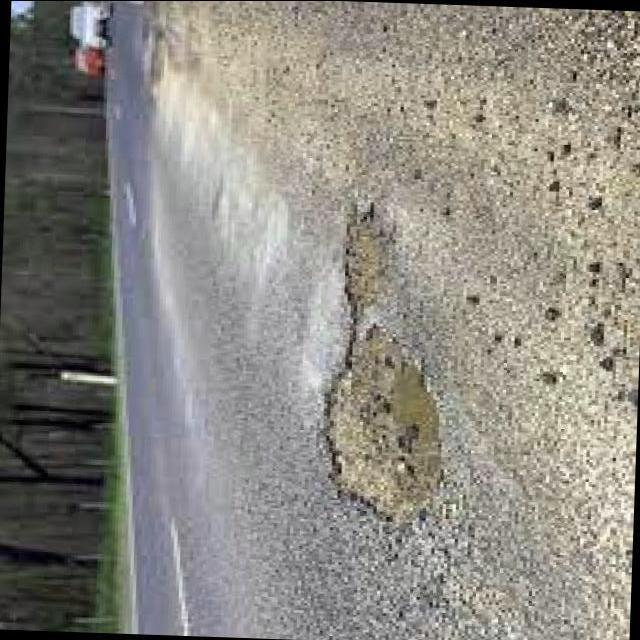pothole: (329, 226, 440, 522)
